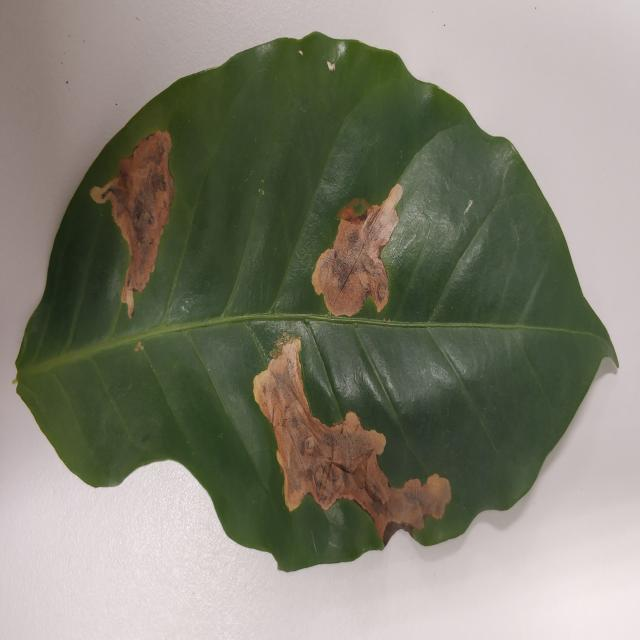Plaga-Minador: (14, 32, 618, 575)
